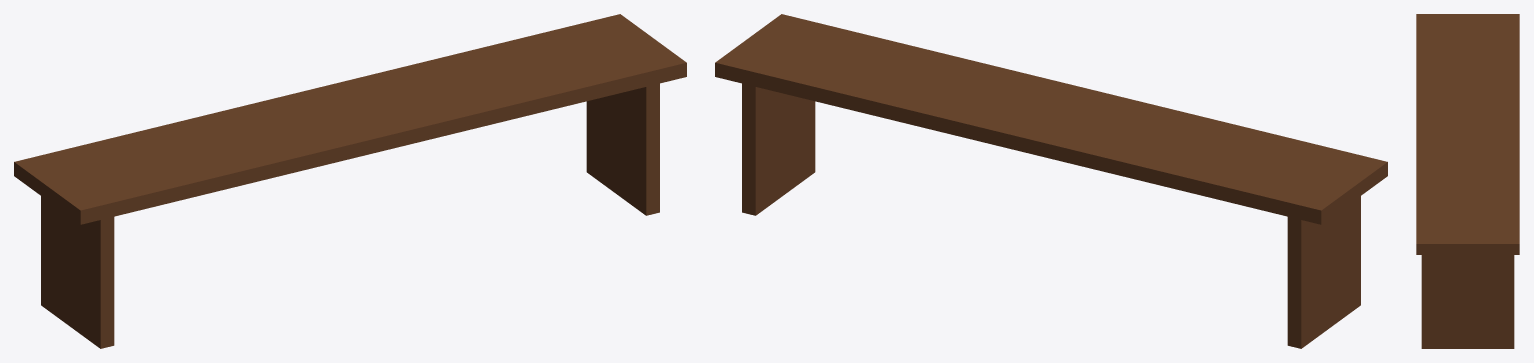
Rendered from furniture.seat.bench_4.glb.
3 renders of one model, left to right at view 1: azimuth 30°, elevation 25°; view 2: azimuth 150°, elevation 25°; view 3: azimuth 270°, elevation 25°, orthographic. The views are drawn at different scales.
Visible parts, largest first — view 1: main__hardwood; view 2: main__hardwood; view 3: main__hardwood.
Boxes of the visible parts, <box> form: main__hardwood: <box>14,14,686,348</box>; main__hardwood: <box>715,14,1387,348</box>; main__hardwood: <box>1416,14,1519,348</box>.
Size of the model in its own units: 2 by 0.4625 by 0.38.
